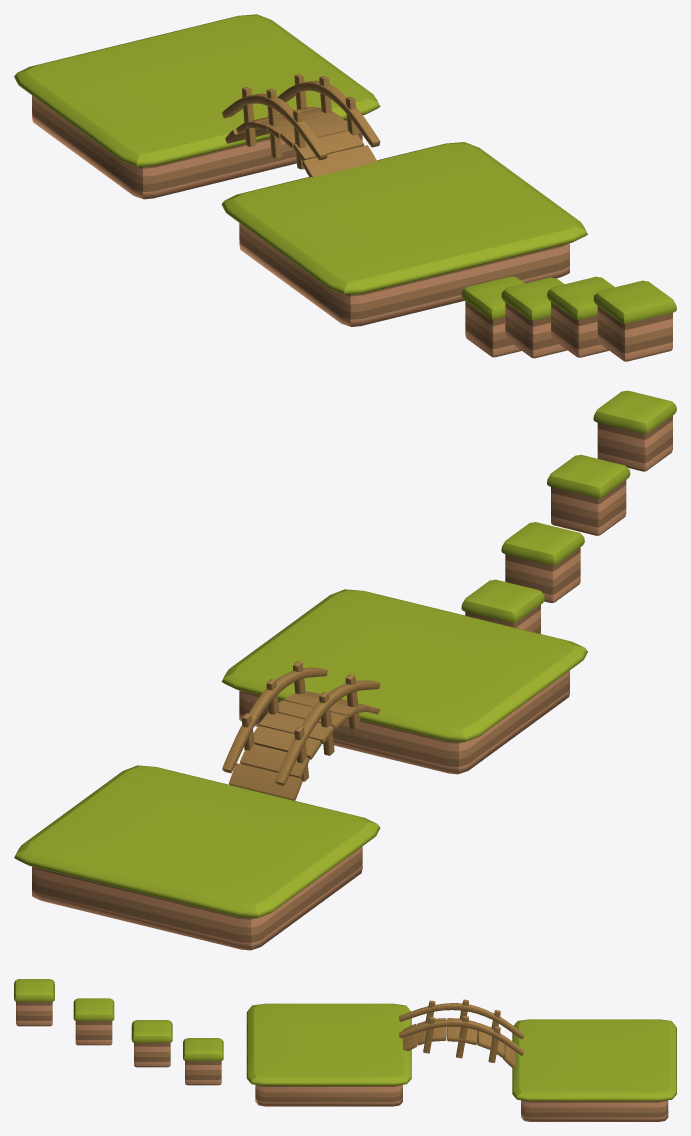
3 renders of one model, top to bottom at view 1: azimuth 30°, elevation 25°; view 2: azimuth 150°, elevation 25°; view 3: azimuth 270°, elevation 25°, orthographic. The views are drawn at different scales.
Visible parts, largest first — view 1: Cube276 (×6), Cube276_3 (×6), Bridge_Small, Cube276_2 (×6), Cube276_1 (×5); view 2: Cube276 (×6), Cube276_3 (×5), Bridge_Small, Cube276_2 (×5), Cube276_1 (×3); view 3: Cube276 (×6), Cube276_3 (×6), Bridge_Small, Cube276_2 (×6), Cube276_1 (×6).
Boxes of the visible parts, <box> form: Cube276 (×6): <box>14,14,676,323</box>; Cube276_3 (×6): <box>32,95,672,359</box>; Bridge_Small: <box>222,74,380,177</box>; Cube276_2 (×6): <box>32,104,672,353</box>; Cube276_1 (×5): <box>32,96,672,361</box>; Cube276 (×6): <box>14,390,676,918</box>; Cube276_3 (×5): <box>32,420,672,949</box>; Bridge_Small: <box>222,661,380,800</box>; Cube276_2 (×5): <box>32,415,672,943</box>; Cube276_1 (×3): <box>32,492,626,950</box>; Cube276 (×6): <box>14,979,676,1101</box>; Cube276_3 (×6): <box>16,1005,668,1121</box>; Bridge_Small: <box>399,999,524,1068</box>; Cube276_2 (×6): <box>16,1001,668,1117</box>; Cube276_1 (×6): <box>16,1010,668,1121</box>.
Bounding box in the file's own units: 10.26 × 6.15 × 36.18.
